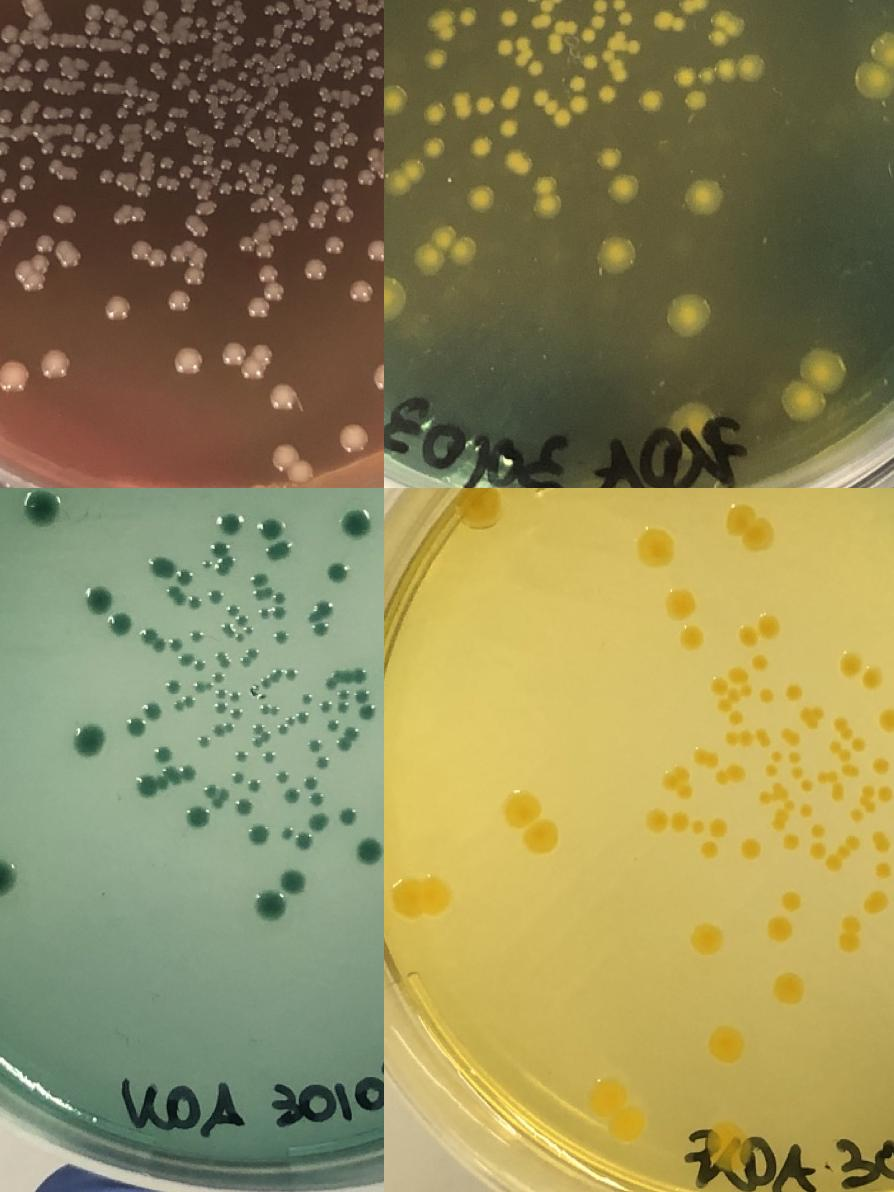assalmonicida: (220, 339, 276, 383), (245, 264, 286, 322), (270, 443, 318, 488), (127, 238, 187, 270), (336, 422, 372, 456), (38, 350, 72, 382), (0, 359, 30, 394), (183, 248, 209, 286), (30, 234, 54, 274), (268, 384, 302, 412), (172, 347, 206, 375), (102, 294, 134, 322), (344, 276, 376, 304), (110, 20, 148, 42), (164, 290, 192, 318), (357, 161, 384, 189), (288, 20, 315, 48), (150, 48, 171, 82), (178, 164, 202, 192), (85, 3, 104, 36), (303, 258, 329, 282), (58, 246, 84, 270), (52, 202, 78, 226), (339, 55, 362, 82), (311, 102, 329, 136), (363, 238, 384, 266), (217, 177, 246, 196), (15, 59, 51, 74), (6, 208, 30, 230), (332, 205, 356, 227), (156, 174, 180, 194), (289, 172, 305, 199), (256, 241, 276, 261), (17, 174, 37, 194), (0, 24, 20, 44), (195, 17, 211, 40), (371, 362, 384, 390), (326, 234, 344, 254), (0, 187, 17, 207), (166, 106, 190, 120), (47, 158, 65, 176), (68, 144, 86, 162), (42, 106, 60, 123), (332, 154, 350, 170), (343, 130, 359, 148), (77, 106, 95, 122), (136, 184, 154, 199), (97, 169, 115, 184), (18, 155, 36, 170), (134, 43, 152, 58), (40, 140, 56, 156), (160, 154, 174, 172), (0, 107, 14, 124), (248, 200, 262, 216), (219, 156, 233, 172), (212, 118, 226, 134), (265, 162, 279, 177), (0, 141, 12, 158), (360, 84, 374, 98), (178, 58, 192, 72), (366, 48, 380, 62), (232, 34, 244, 48), (156, 10, 168, 24), (278, 2, 290, 16), (285, 51, 297, 63), (333, 40, 345, 52), (269, 38, 281, 50), (255, 37, 267, 49), (352, 36, 364, 48), (354, 22, 366, 34), (370, 22, 382, 34), (263, 4, 275, 16), (306, 0, 318, 4)
pddamselae: (134, 764, 196, 800), (250, 572, 286, 618), (148, 554, 194, 586), (258, 514, 290, 560), (253, 888, 289, 924), (74, 721, 110, 757), (338, 507, 374, 543), (24, 489, 60, 525), (226, 603, 256, 638), (139, 628, 182, 652), (325, 668, 368, 690), (307, 600, 333, 636), (278, 823, 313, 849), (165, 586, 202, 610), (274, 711, 310, 735), (215, 508, 244, 536), (213, 687, 243, 714), (280, 868, 308, 896), (355, 838, 383, 866), (84, 586, 112, 614), (183, 804, 211, 830), (108, 612, 134, 638), (355, 688, 376, 720), (200, 556, 228, 576), (0, 858, 15, 894), (251, 722, 272, 747), (179, 653, 208, 671), (239, 646, 259, 668), (329, 561, 349, 583), (259, 700, 283, 717), (337, 688, 352, 714), (174, 694, 196, 711), (143, 701, 161, 720), (309, 813, 327, 831), (340, 808, 358, 826), (235, 796, 253, 814), (202, 782, 220, 800), (154, 746, 172, 764), (211, 539, 229, 557), (250, 824, 267, 842), (127, 718, 144, 736), (245, 777, 260, 791), (311, 792, 325, 806), (287, 788, 301, 802), (304, 774, 318, 788), (276, 771, 290, 785), (230, 770, 244, 784), (317, 754, 331, 768), (234, 749, 248, 763), (264, 749, 278, 763), (309, 739, 323, 753), (197, 734, 211, 748), (346, 728, 360, 742), (212, 724, 226, 738), (318, 699, 332, 713), (166, 678, 180, 692), (285, 666, 299, 680), (214, 649, 228, 663), (190, 628, 204, 642), (220, 620, 234, 634), (209, 590, 223, 604), (194, 678, 208, 691), (212, 670, 226, 683), (230, 706, 242, 720), (300, 692, 312, 706), (276, 630, 288, 644), (328, 720, 340, 732)
vharveyi: (587, 1076, 649, 1150), (504, 792, 562, 856), (412, 227, 476, 277), (814, 740, 859, 801), (390, 877, 450, 917), (724, 504, 775, 550), (705, 1124, 751, 1170), (758, 780, 797, 831), (861, 37, 894, 95), (458, 488, 504, 527), (672, 66, 710, 111), (644, 808, 703, 834), (669, 293, 707, 333), (708, 8, 744, 50), (738, 612, 780, 648), (711, 678, 755, 712), (386, 160, 425, 197), (825, 834, 860, 874), (534, 173, 562, 220), (709, 1026, 745, 1062), (688, 920, 724, 956), (638, 530, 674, 566), (715, 57, 763, 83), (675, 406, 713, 438), (600, 239, 634, 271), (664, 586, 698, 618), (850, 784, 876, 824), (787, 384, 819, 416), (689, 181, 721, 213), (610, 172, 642, 204), (772, 973, 804, 1005), (808, 353, 840, 384), (662, 766, 692, 799), (836, 912, 860, 952), (530, 0, 564, 28), (724, 728, 774, 746), (384, 85, 408, 117), (608, 32, 640, 55), (384, 278, 402, 318), (798, 705, 823, 731), (652, 11, 684, 31), (430, 12, 453, 38), (502, 148, 526, 172), (598, 146, 622, 170), (421, 136, 445, 160), (470, 135, 494, 159), (423, 102, 447, 126), (640, 89, 664, 113), (425, 46, 449, 70), (770, 918, 794, 942), (738, 836, 762, 860), (838, 652, 862, 676), (681, 625, 705, 649), (764, 750, 784, 778), (714, 766, 744, 784), (515, 38, 534, 66), (469, 188, 493, 210), (833, 714, 854, 739), (592, 0, 608, 31), (781, 890, 803, 912), (708, 816, 730, 838), (870, 756, 892, 778), (862, 667, 884, 689), (871, 830, 891, 854), (692, 748, 716, 768), (868, 891, 889, 913), (498, 87, 518, 110), (498, 118, 520, 138), (474, 96, 496, 116), (458, 6, 480, 26), (779, 726, 801, 746), (877, 708, 894, 732), (499, 8, 519, 28), (568, 96, 590, 114), (455, 93, 471, 117), (681, 0, 708, 14), (552, 110, 572, 128), (530, 90, 550, 108), (597, 86, 617, 104), (568, 75, 588, 93), (610, 66, 630, 84), (495, 38, 515, 56), (782, 831, 800, 851), (580, 54, 599, 72), (874, 861, 892, 880), (878, 784, 894, 802), (730, 710, 746, 728), (554, 21, 576, 34), (810, 842, 826, 859), (811, 821, 827, 838), (759, 688, 775, 705), (788, 683, 804, 700), (730, 665, 746, 682), (752, 653, 768, 670), (852, 736, 868, 752), (700, 69, 714, 86), (619, 10, 633, 27), (702, 842, 716, 858), (790, 767, 804, 781), (787, 750, 801, 764), (582, 28, 594, 44), (601, 50, 613, 64), (800, 803, 812, 817), (802, 778, 814, 792), (531, 63, 543, 75), (549, 34, 561, 46), (612, 0, 625, 9)
